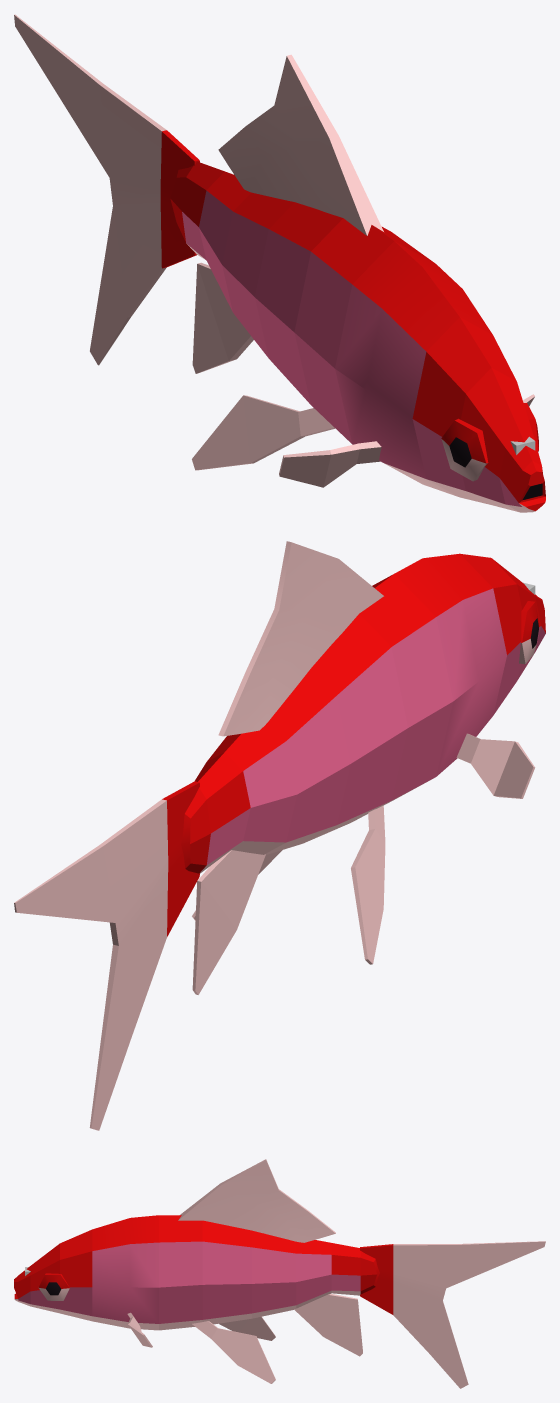
File: Mesh_Goldfish.obj
The picture shows the model from 3 angles, top to bottom: view 1: azimuth 30°, elevation 25°; view 2: azimuth 150°, elevation 25°; view 3: azimuth 270°, elevation 25°; orthographic projection. The views are drawn at different scales.
Parts seen in each view (by area): view 1: Mesh_Goldfish; view 2: Mesh_Goldfish; view 3: Mesh_Goldfish.
Boxes of the visible parts, x1,y1,x2,y2 form: Mesh_Goldfish: (14,14,545,512); Mesh_Goldfish: (14,541,545,1130); Mesh_Goldfish: (14,1159,545,1388).
Size of the model in its own units: 26.55 by 45.42 by 95.57.
Materials: 2 (1 with a texture image).
